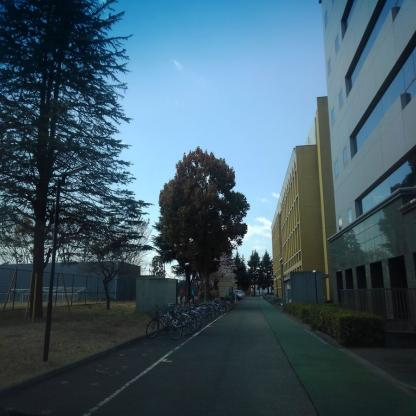Someiyoshino: (204, 237, 242, 290)
